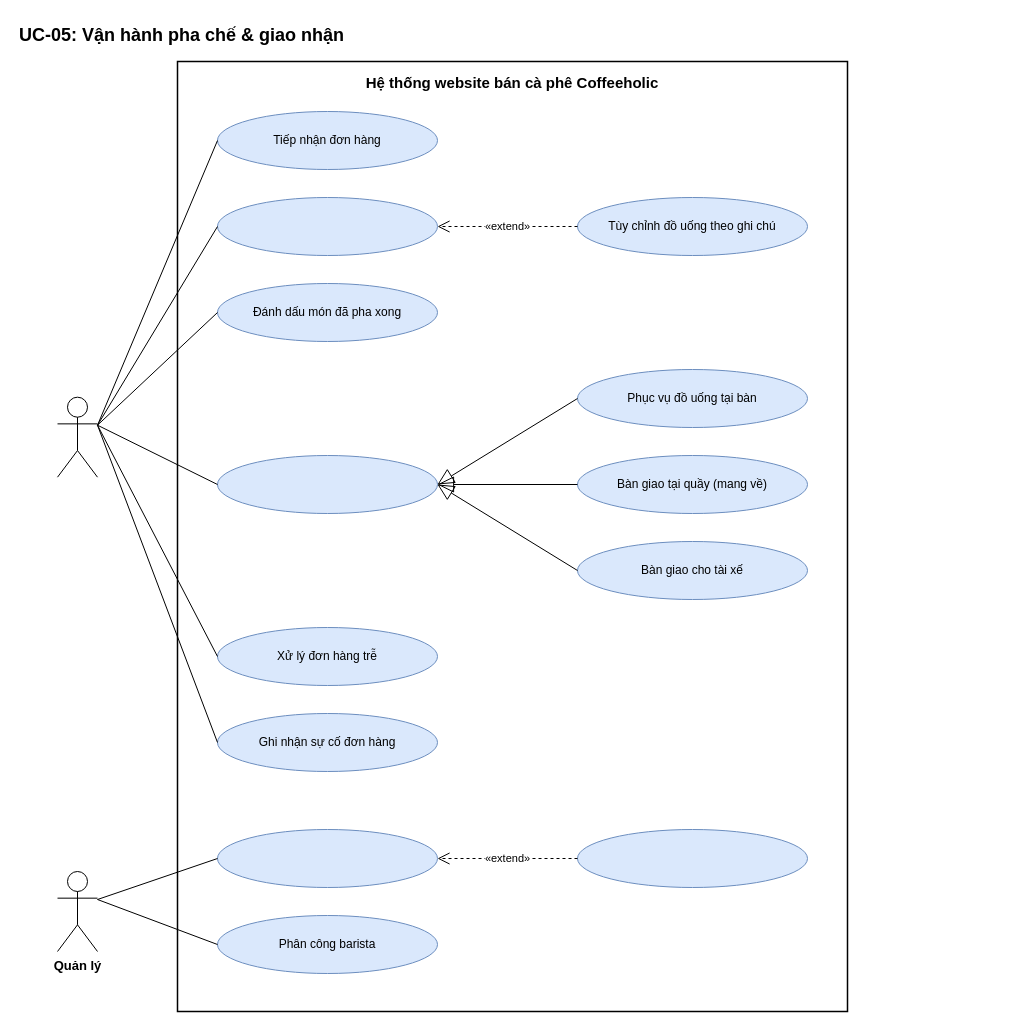
Some shapes in this 1034 by 1029 pixel diagram are drawn without their labels. Here are the shapes that lost their labels. From the top down, the centre of each, then its label:
At [327,226]: "Pha chế theo công thức".
At [77,436]: "Nhân viên".
At [327,484]: "Bàn giao đơn hàng".
At [327,858]: "Xử lý sự cố (làm lại món nếu cần)".
At [692,858]: "Đền bù bằng voucher".
